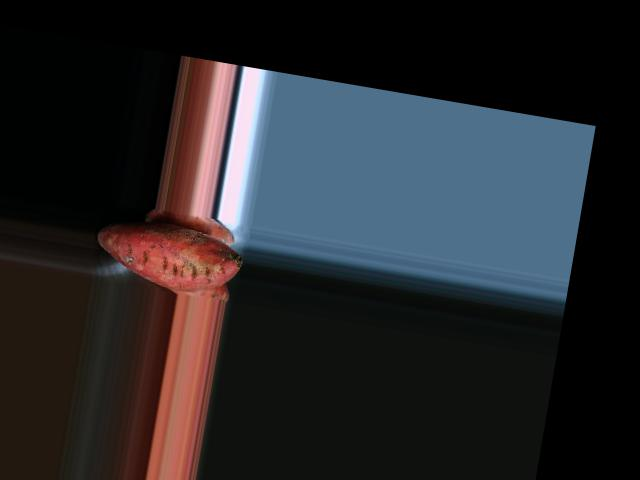sweet_potato: (92, 219, 245, 295)
